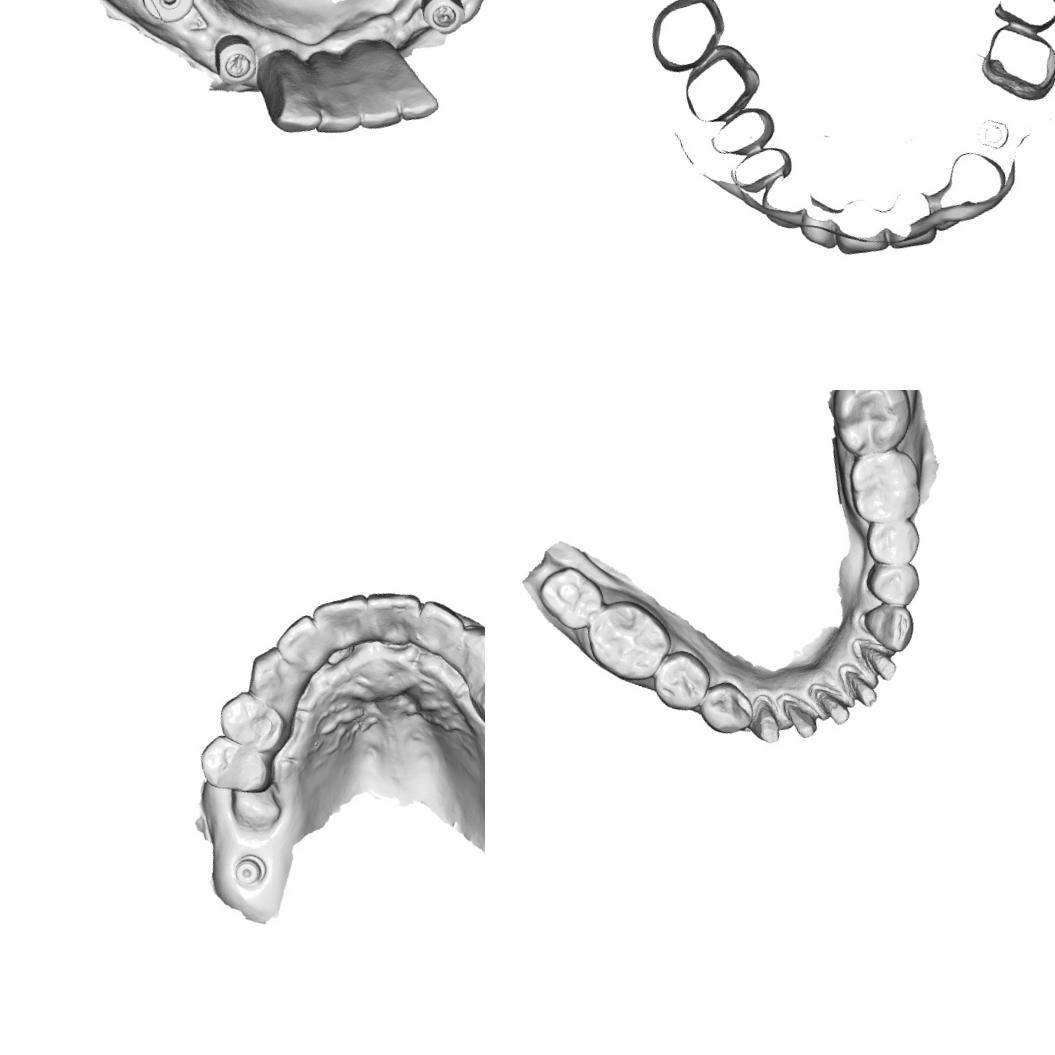canine: (236, 640, 302, 706), (859, 595, 920, 658), (455, 617, 485, 680)
crown: (774, 684, 825, 744), (850, 630, 900, 688), (739, 690, 785, 750), (809, 674, 858, 730), (836, 656, 880, 712)
implant: (206, 28, 260, 90), (414, 0, 473, 40), (132, 0, 203, 30), (227, 846, 271, 892)
incisor: (255, 50, 324, 142), (307, 588, 380, 653), (384, 52, 445, 126), (303, 72, 364, 144), (267, 610, 330, 678), (364, 580, 426, 644), (350, 77, 406, 136), (415, 593, 467, 654)
molar: (578, 588, 681, 691), (840, 442, 929, 530), (822, 390, 919, 460), (533, 559, 610, 637)
premolar: (192, 724, 278, 804), (211, 682, 290, 761), (644, 642, 720, 718), (692, 674, 758, 740), (860, 552, 925, 614), (860, 511, 924, 572), (467, 652, 485, 728)
